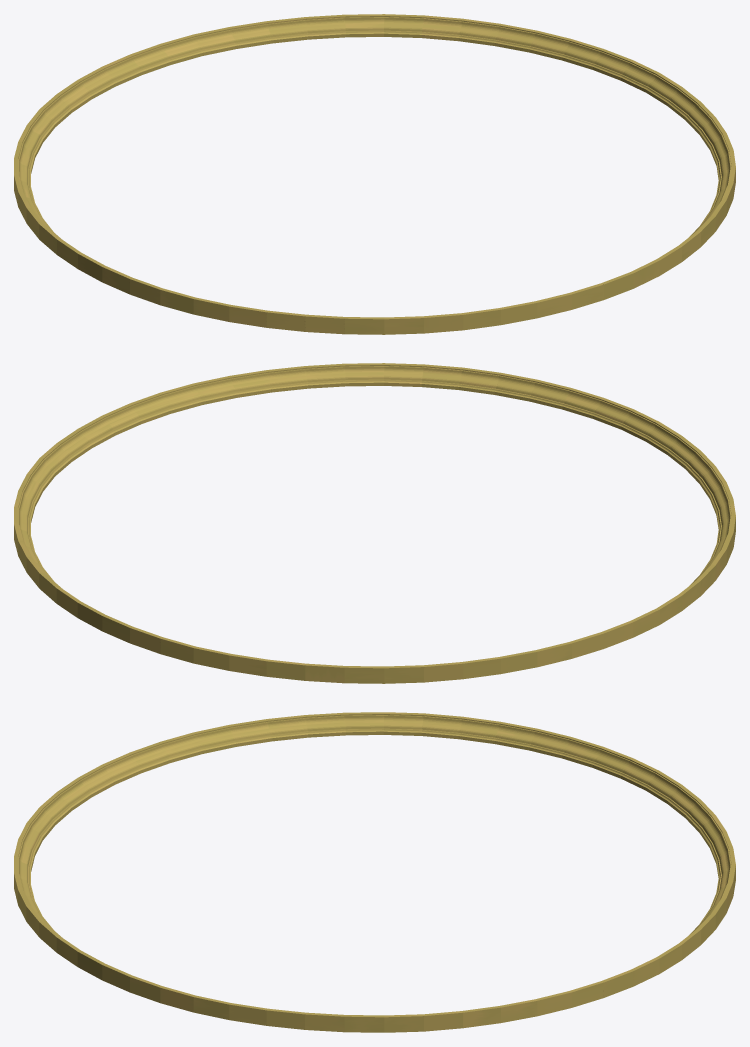
Rendered from Round object.fbx.
3 views of the same model, one above another, from view 1: azimuth 30°, elevation 25°; view 2: azimuth 150°, elevation 25°; view 3: azimuth 270°, elevation 25° (orthographic).
Visible parts, largest first — view 1: Cube.047; view 2: Cube.047; view 3: Cube.047.
Part boxes in pixels (x1,y1,x2,y2): Cube.047: (14, 14, 735, 334); Cube.047: (14, 363, 735, 683); Cube.047: (14, 712, 735, 1032).
Bounding box in the file's own units: 2478 × 58.84 × 2478.
